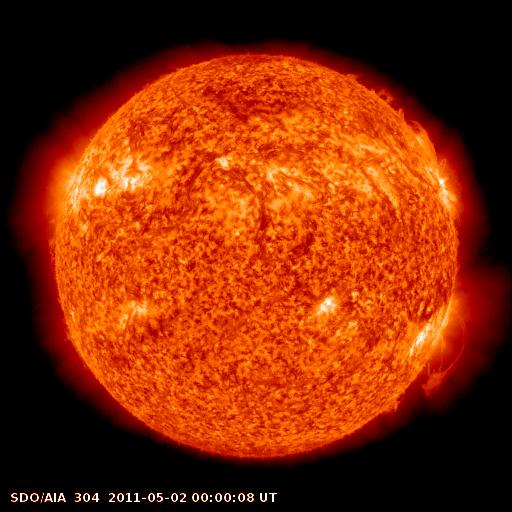prominence: (412, 307, 472, 402), (341, 61, 407, 121), (409, 114, 447, 170), (373, 394, 405, 423)
